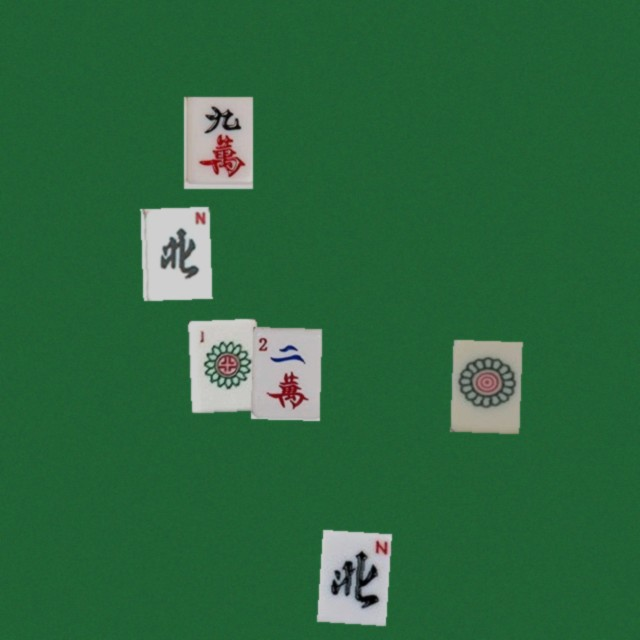tile: (317, 529, 386, 621), (140, 206, 209, 298), (188, 318, 257, 410), (450, 339, 519, 431), (183, 96, 252, 188), (250, 327, 319, 419)
